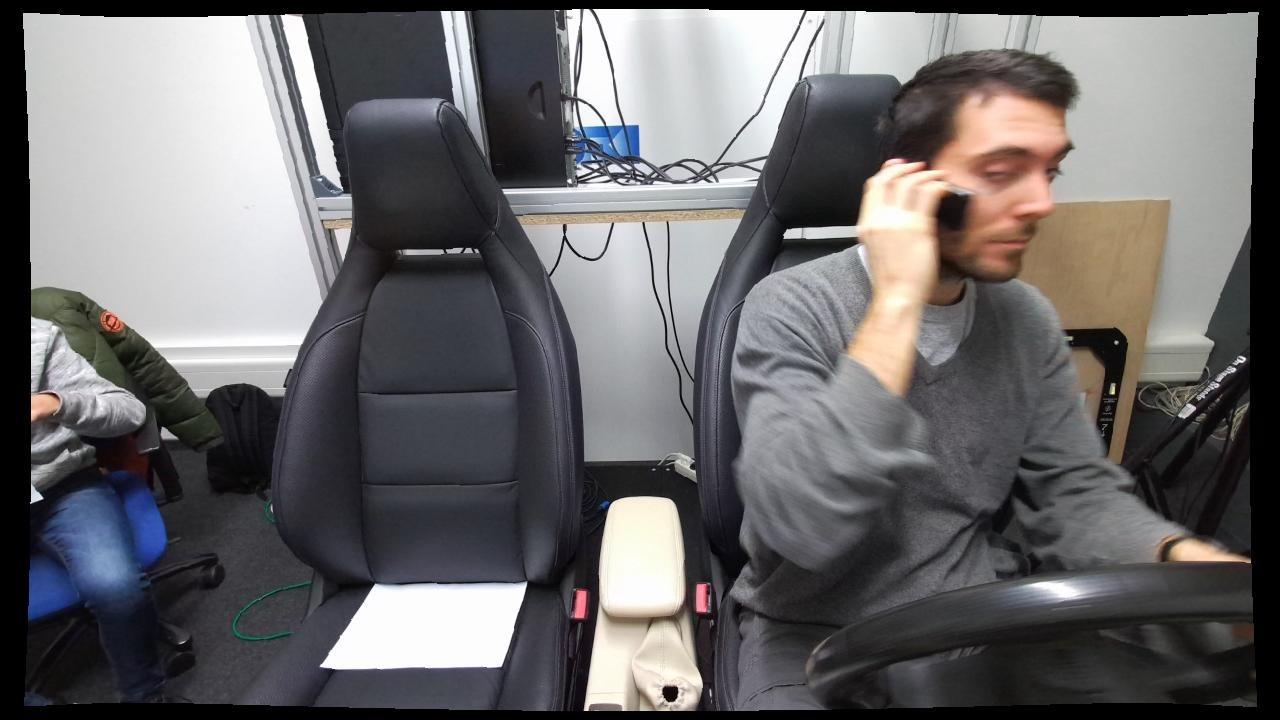Distracted: (729, 56, 1093, 708)
PhoneUse: (906, 176, 1007, 267)
